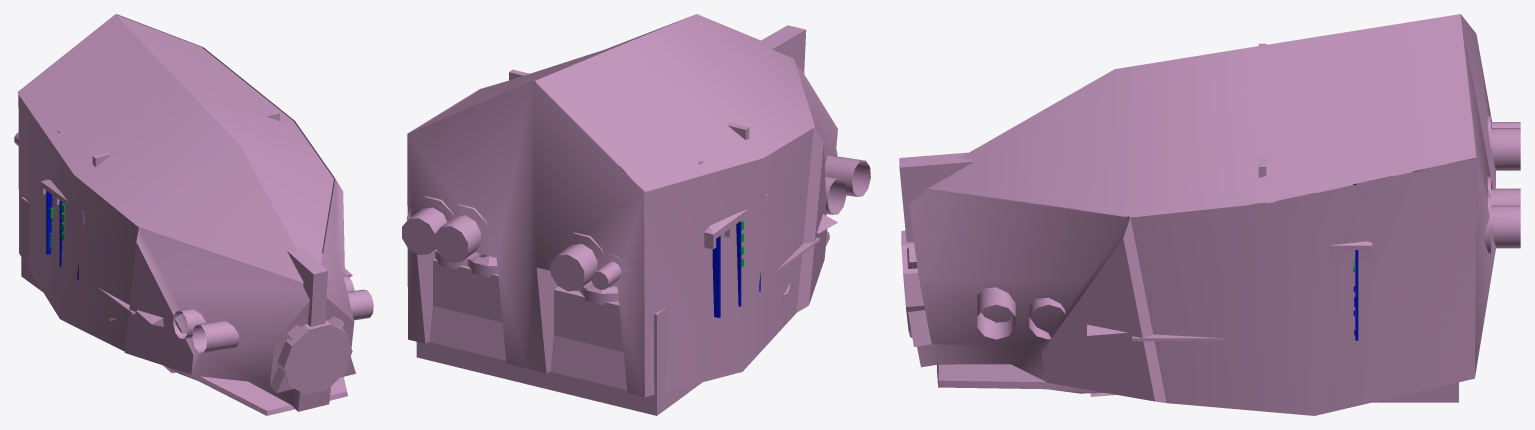
The model's file is head_room.FBX.
The picture shows the model from 3 angles, left to right: view 1: azimuth 30°, elevation 25°; view 2: azimuth 150°, elevation 25°; view 3: azimuth 270°, elevation 25°; orthographic projection. The views are drawn at different scales.
Parts seen in each view (by area): view 1: head_room, head_roof, head_motherboard_5; view 2: head_room, head_roof, head_motherboard_5; view 3: head_room, head_roof.
Boxes of the visible parts, x1=… form: head_room: x1=14, y1=14, x2=373, y2=415; head_roof: x1=17, y1=14, x2=333, y2=282; head_motherboard_5: x1=46, y1=191, x2=52, y2=254; head_room: x1=402, y1=25, x2=870, y2=415; head_roof: x1=416, y1=14, x2=814, y2=191; head_motherboard_5: x1=712, y1=236, x2=720, y2=317; head_room: x1=899, y1=15, x2=1520, y2=415; head_roof: x1=928, y1=14, x2=1476, y2=216.
Bounding box in the file's own units: 115 × 127 × 204.
